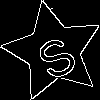S: (28, 26, 81, 83)
